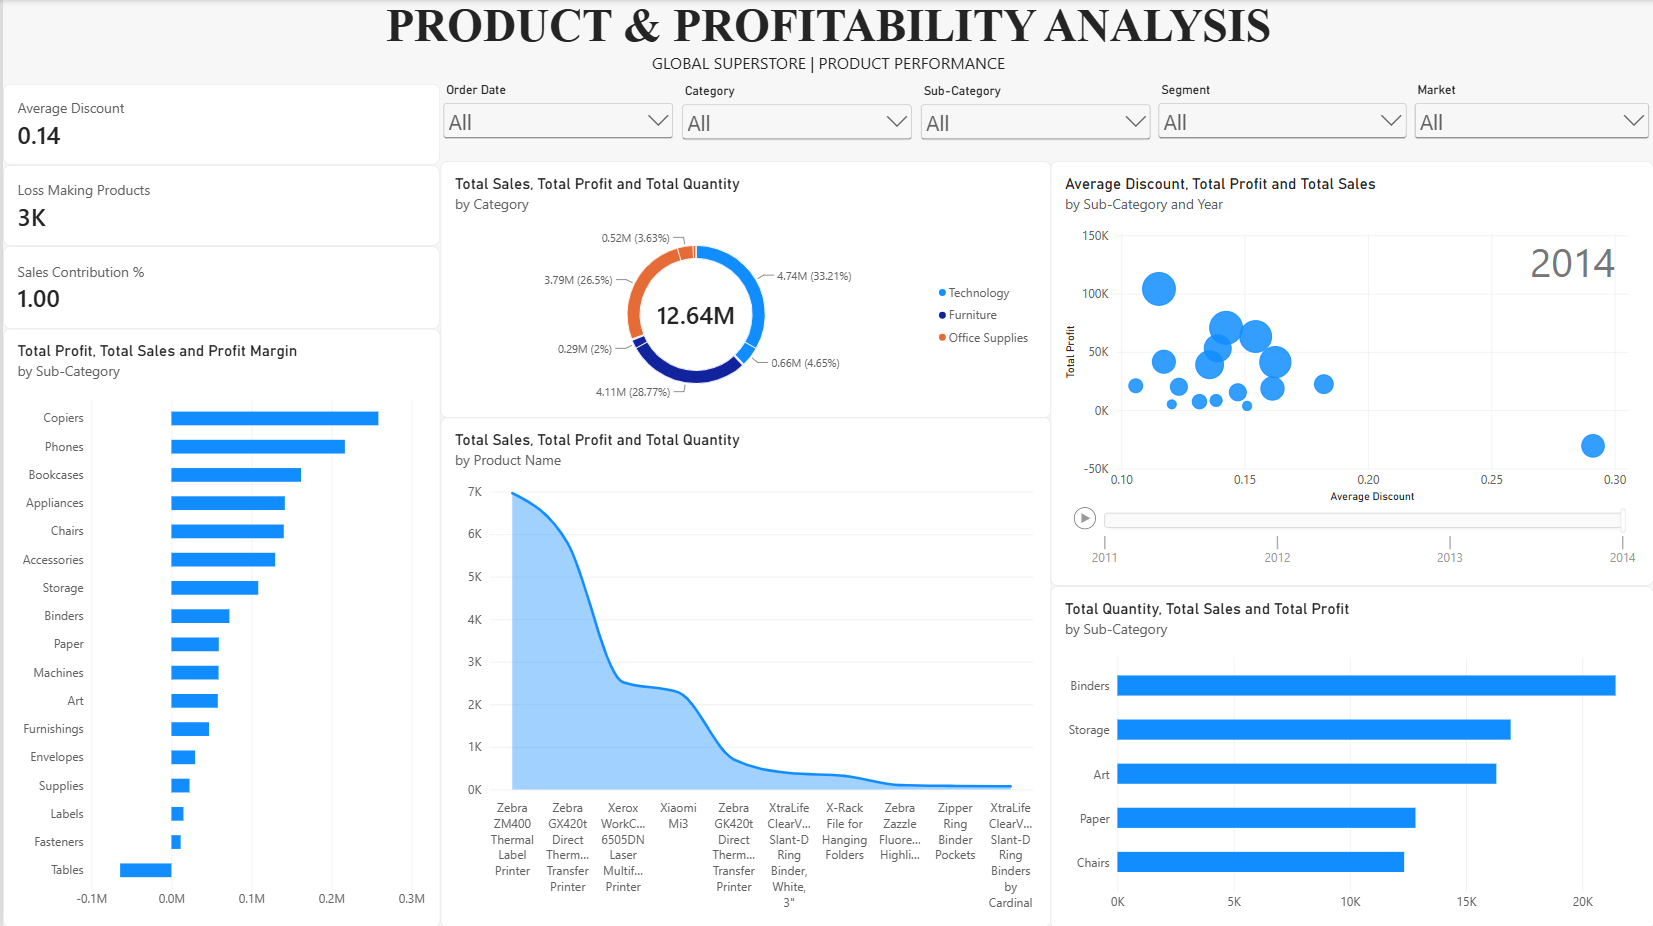

This screenshot's page, from the dashboard's own definition file:
{"tool":"powerbi","page":{"name":"PRODUCT ANALYSIS ","canvas":[1920,1080],"ordinal":2},"visuals":[{"type":"textbox","box":[0,0,1920.6,92],"z":0},{"type":"donutChart","fields":{"Category":["Global_Superstore2.Category"],"Y":["Global_Superstore2.Total Sales","Global_Superstore2.Total Profit","Global_Superstore2.Total Quantity"]},"box":[508.4,187.3,710.1,298.5],"z":1000},{"type":"clusteredBarChart","fields":{"Category":["Global_Superstore2.Sub-Category"],"Y":["Global_Superstore2.Total Profit"]},"box":[0,382.8,508.4,695.7],"z":2000},{"type":"areaChart","fields":{"Category":["Global_Superstore2.Product Name"],"Y":["Global_Superstore2.Total Sales"]},"box":[508.4,485.8,710.1,592.8],"z":3000},{"type":"scatterChart","fields":{"Category":["Global_Superstore2.Sub-Category"],"Play":["Global_Superstore2.Order Date.Variation.Date Hierarchy.Year"],"Size":["Global_Superstore2.Total Sales"],"X":["Global_Superstore2.Average Discount"],"Y":["Global_Superstore2.Total Profit"]},"box":[1218.5,187.3,701.9,494],"z":4000},{"type":"clusteredBarChart","fields":{"Category":["Global_Superstore2.Sub-Category"],"Y":["Global_Superstore2.Total Quantity"]},"box":[1218.5,681.3,701.9,399.3],"z":5000},{"type":"cardVisual","fields":{"Data":["Global_Superstore2.Average Discount"]},"box":[0,96.7,508.4,94.7],"z":6000},{"type":"cardVisual","fields":{"Data":["Global_Superstore2.Loss Making Products"]},"box":[0,191.4,508.4,94.7],"z":7000},{"type":"cardVisual","fields":{"Data":["Global_Superstore2.Sales Contribution %"]},"box":[0,286.1,508.4,96.7],"z":8000},{"type":"slicer","fields":{"Values":["Global_Superstore2.Sub-Category"]},"box":[1062.2,97.7,277.3,68],"z":9000},{"type":"slicer","fields":{"Values":["Global_Superstore2.Order Date"]},"box":[507.6,95.9,277.3,66.3],"z":10000},{"type":"slicer","fields":{"Values":["Global_Superstore2.Category"]},"box":[784.9,97.7,277.3,94.2],"z":11000},{"type":"slicer","fields":{"Values":["Global_Superstore2.Segment"]},"box":[1339.5,95.9,298.3,94.2],"z":12000},{"type":"slicer","fields":{"Values":["Global_Superstore2.Market"]},"box":[1637.8,95.9,282.6,87.2],"z":13000}]}

Visuals, with their boxes in screenshot pixels (x1, y1, x2, y2), scaled from the page's 1920x1080 canvas onto the 1653x926 screenshot:
textbox: <region>0, 0, 1652, 79</region>
donutChart - Global_Superstore2.Category x Global_Superstore2.Total Sales: <region>438, 161, 1049, 417</region>
clusteredBarChart - Global_Superstore2.Sub-Category x Global_Superstore2.Total Profit: <region>0, 328, 438, 925</region>
areaChart - Global_Superstore2.Product Name x Global_Superstore2.Total Sales: <region>438, 417, 1049, 925</region>
scatterChart - Global_Superstore2.Sub-Category x Global_Superstore2.Order Date.Variation.Date Hierarchy.Year: <region>1049, 161, 1652, 584</region>
clusteredBarChart - Global_Superstore2.Sub-Category x Global_Superstore2.Total Quantity: <region>1049, 584, 1652, 925</region>
cardVisual - Global_Superstore2.Average Discount: <region>0, 83, 438, 164</region>
cardVisual - Global_Superstore2.Loss Making Products: <region>0, 164, 438, 245</region>
cardVisual - Global_Superstore2.Sales Contribution %: <region>0, 245, 438, 328</region>
slicer - Global_Superstore2.Sub-Category: <region>914, 84, 1153, 142</region>
slicer - Global_Superstore2.Order Date: <region>437, 82, 676, 139</region>
slicer - Global_Superstore2.Category: <region>676, 84, 914, 165</region>
slicer - Global_Superstore2.Segment: <region>1153, 82, 1410, 163</region>
slicer - Global_Superstore2.Market: <region>1410, 82, 1652, 157</region>
